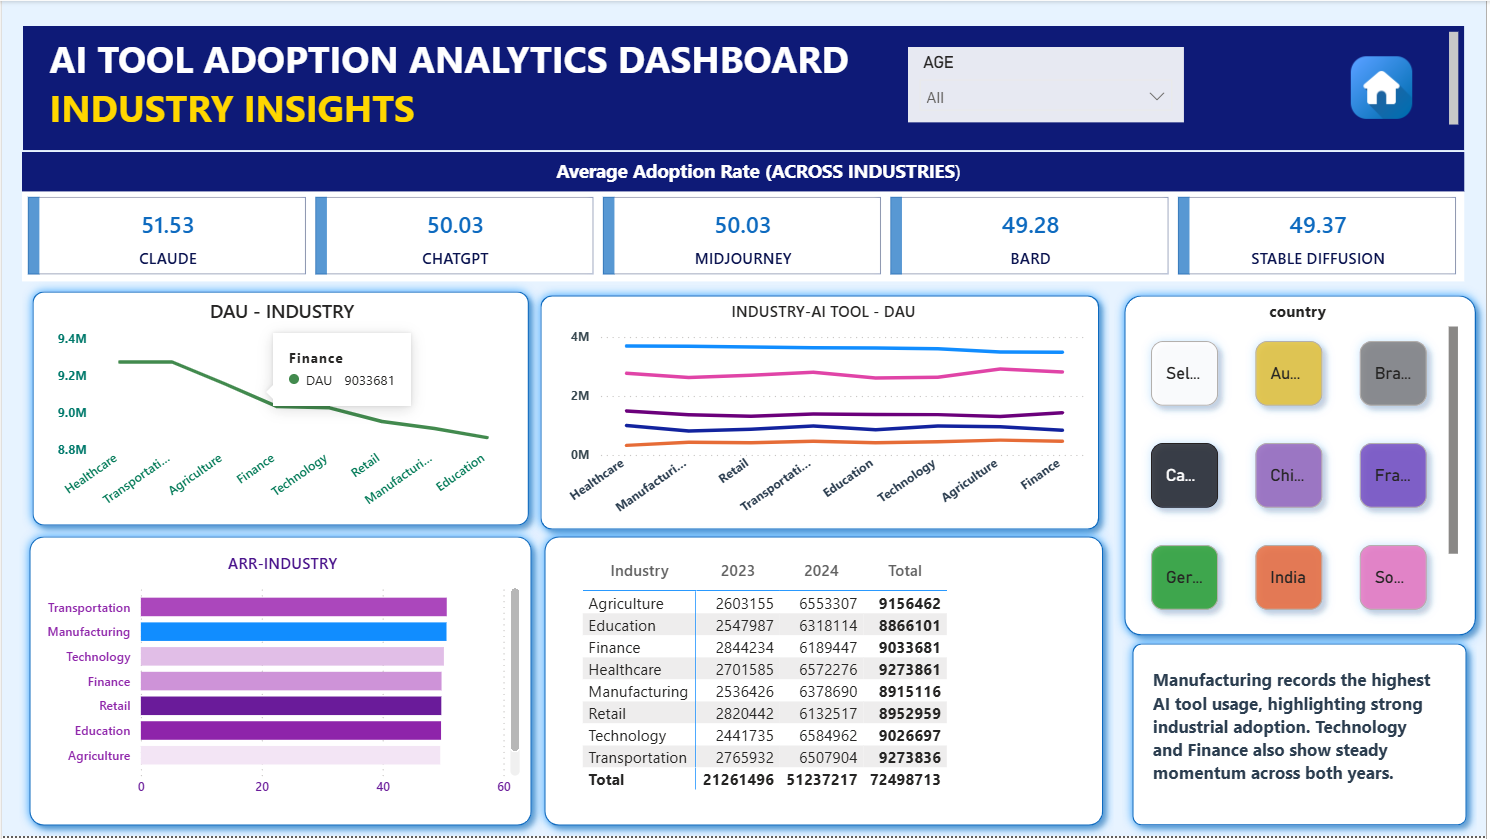

What the dashboard file says about the page in this screenshot:
{"tool":"powerbi","page":{"name":"INDUSTRY INSIGHTS","canvas":[1280,720],"ordinal":3},"visuals":[{"type":"textbox","box":[17.8,22,1243.2,107],"z":0},{"type":"cardVisual","fields":{"Data":["Industry Insight.ARR(CLAUDE)","Industry Insight.ARR(GPT)","Industry Insight.ARR(MIDJOURNEY)","Industry Insight.ARR(BARD)","Industry Insight.ARR(STABLE DIFFUSION)"]},"box":[17.5,163.8,1243.8,77.5],"z":1000},{"type":"slicer","fields":{"Values":["AI.age_group"]},"box":[781.2,39.8,237.6,64.7],"z":2000},{"type":"textbox","box":[17.5,130,1243.8,33.8],"z":3000},{"type":"shape","box":[17.5,241.2,446.2,220],"z":4000},{"type":"shape","box":[455,245,500,220],"z":5000},{"type":"lineChart","title":"DAU - INDUSTRY","fields":{"Category":["AI.industry"],"Y":["Sum(AI.daily_active_users)"]},"box":[41.2,256.2,400,190],"z":6000},{"type":"shape","box":[15,452.5,451.2,267.5],"z":7000},{"type":"lineChart","title":"INDUSTRY-AI TOOL - DAU","fields":{"Category":["AI.industry"],"Y":["Industry Insight.chatgpt","Industry Insight.BARD","Industry Insight.CLAUDE","Industry Insight.Stable Diffusion","Industry Insight.Midjourney"]},"box":[476.2,258.8,465,193.8],"z":8000},{"type":"shape","box":[458.8,452.5,500,267.5],"z":9000},{"type":"barChart","title":"ARR-INDUSTRY","fields":{"Category":["AI.industry"],"Y":["Avg(AI.adoption_rate)"]},"box":[32.5,476.2,418.8,220],"z":10000},{"type":"pivotTable","fields":{"Rows":["AI.industry"],"Columns":["AI.year"],"Values":["Sum(AI.daily_active_users)"]},"box":[496.2,476.2,425,217.5],"z":11000},{"type":"shape","box":[958.8,245,321.2,311.2],"z":12000},{"type":"advancedSlicerVisual","fields":{"Values":["AI.country"]},"box":[973.8,258.8,287.5,283.8],"z":13000},{"type":"shape","box":[966.2,545,306.2,175],"z":14000},{"type":"textbox","box":[987.5,570,256.2,126.2],"z":15000},{"type":"image","box":[1158.1,39.8,63.4,69.7],"z":15001}]}

Visuals, with their boxes in screenshot pixels (x1, y1, x2, y2), scaled from the page's 1280x720 canvas onto the 1490x839 screenshot:
textbox: region(21, 26, 1468, 150)
cardVisual - Industry Insight.ARR(CLAUDE) x Industry Insight.ARR(GPT): region(20, 191, 1468, 281)
slicer - AI.age_group: region(909, 46, 1186, 122)
textbox: region(20, 151, 1468, 191)
shape: region(20, 281, 540, 537)
shape: region(530, 285, 1112, 542)
"DAU - INDUSTRY" lineChart: region(48, 299, 514, 520)
shape: region(17, 527, 543, 838)
"INDUSTRY-AI TOOL - DAU" lineChart: region(554, 302, 1096, 527)
shape: region(534, 527, 1116, 838)
"ARR-INDUSTRY" barChart: region(38, 555, 525, 811)
pivotTable - AI.industry x AI.year: region(578, 555, 1072, 808)
shape: region(1116, 285, 1489, 648)
advancedSlicerVisual - AI.country: region(1134, 302, 1468, 632)
shape: region(1125, 635, 1481, 838)
textbox: region(1150, 664, 1448, 811)
image: region(1348, 46, 1422, 128)
